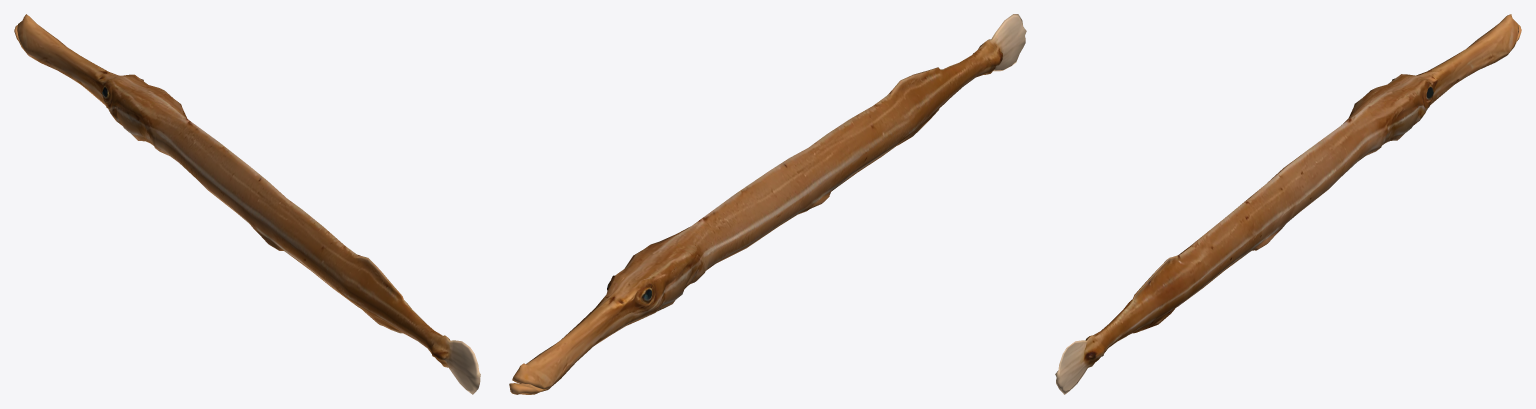
Rendered from trompetvis.glb.
3 renders of one model, left to right at view 1: azimuth 30°, elevation 25°; view 2: azimuth 150°, elevation 25°; view 3: azimuth 330°, elevation 25°, orthographic. The views are drawn at different scales.
Visible parts, largest first — view 1: tripo_node_c0463f0f-d293-4337-b18c-1b752de917ff; view 2: tripo_node_c0463f0f-d293-4337-b18c-1b752de917ff; view 3: tripo_node_c0463f0f-d293-4337-b18c-1b752de917ff.
Part boxes in pixels (x1,y1,x2,y2): tripo_node_c0463f0f-d293-4337-b18c-1b752de917ff: (14,14,480,394); tripo_node_c0463f0f-d293-4337-b18c-1b752de917ff: (509,14,1026,394); tripo_node_c0463f0f-d293-4337-b18c-1b752de917ff: (1055,14,1521,394).
Bounding box in the file's own units: 0.2305 × 0.35 × 4.36.
Materials: 1 (1 with a texture image).
